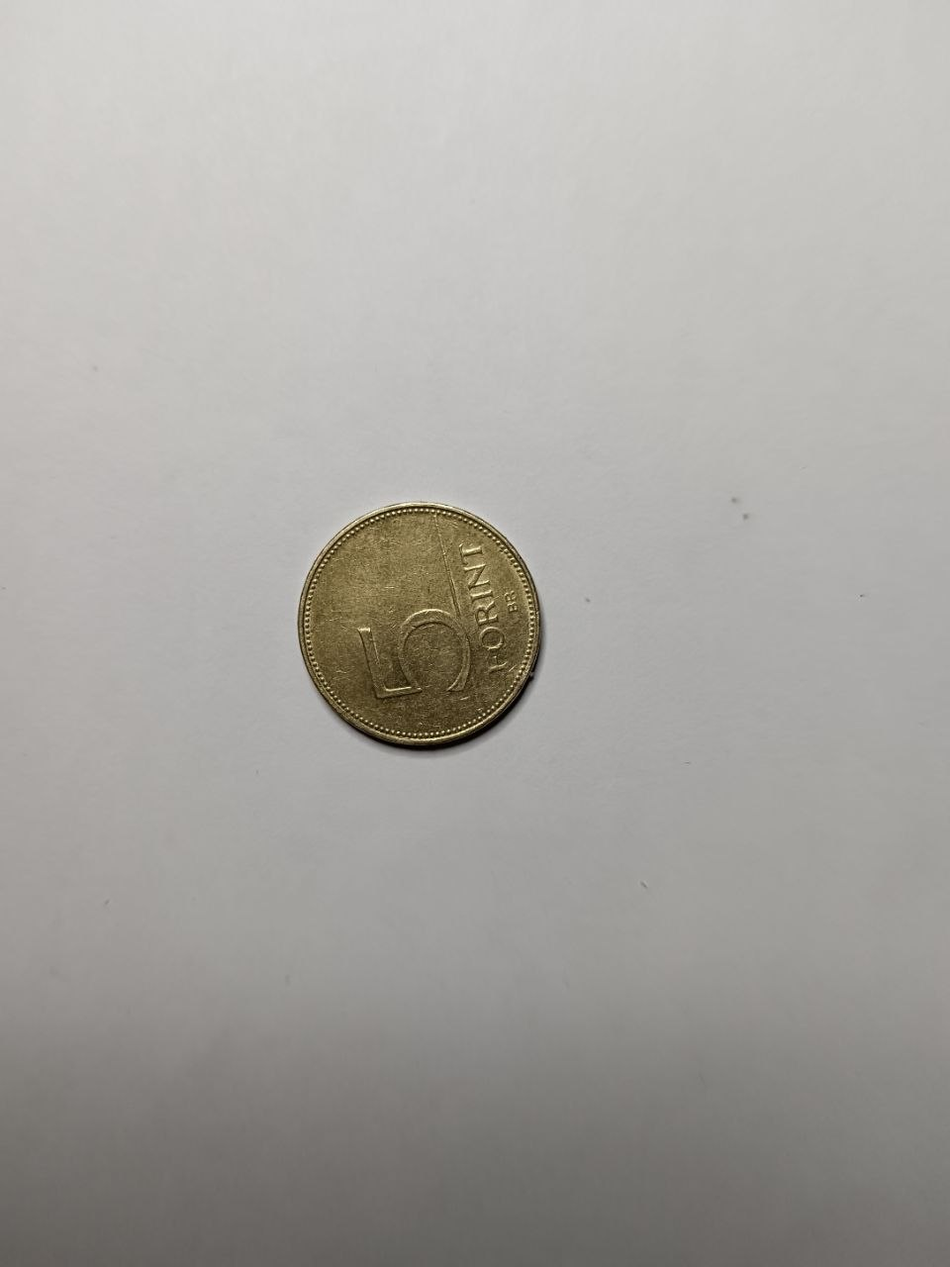5ft: (307, 506, 542, 748)
